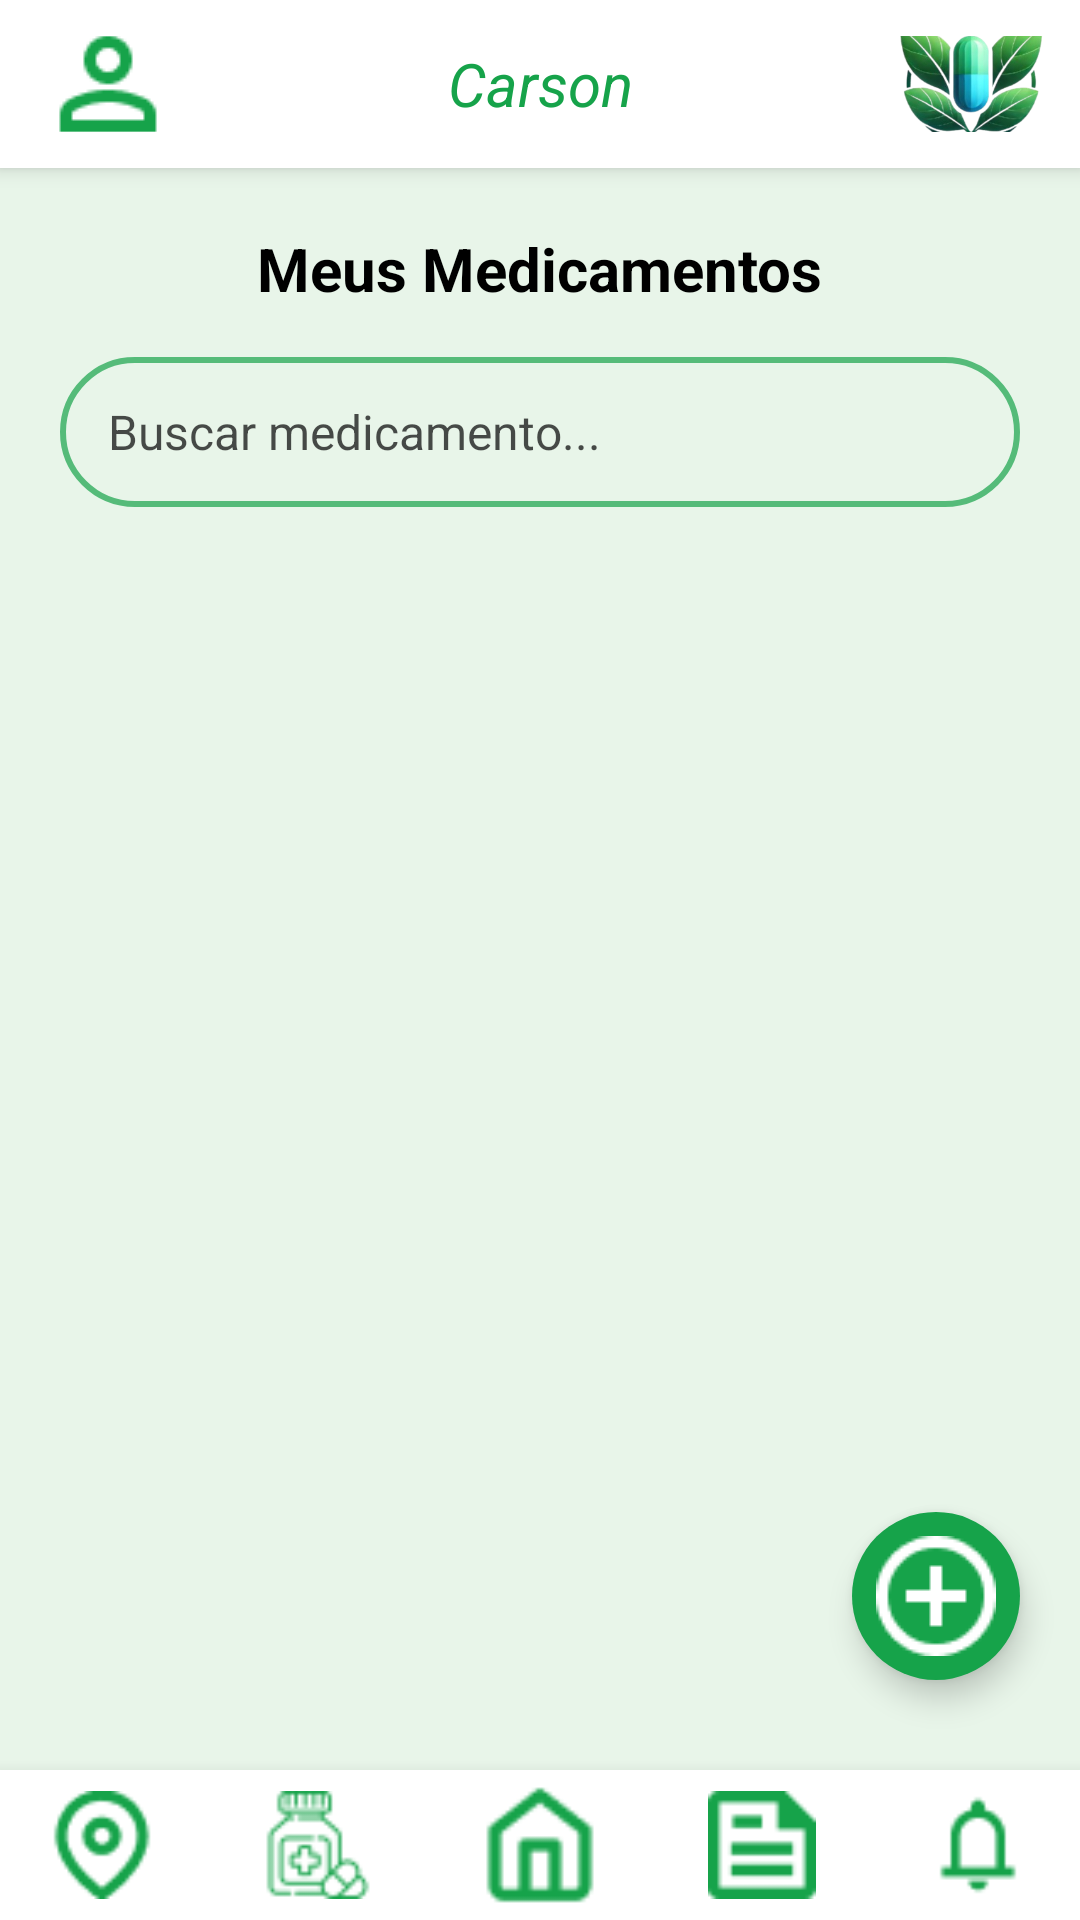

Where icons sit on this 1080*1920 app screen, as box=[x1, y1, x2, y2]:
Adicionar Medicamento: box=[852, 1512, 1020, 1680]
Início: box=[486, 1787, 594, 1903]
Mapa: box=[54, 1791, 150, 1899]
Menu de perfil: box=[59, 36, 157, 132]
Meus Medicamentos: box=[266, 1791, 370, 1899]
Notícias: box=[708, 1791, 816, 1899]
